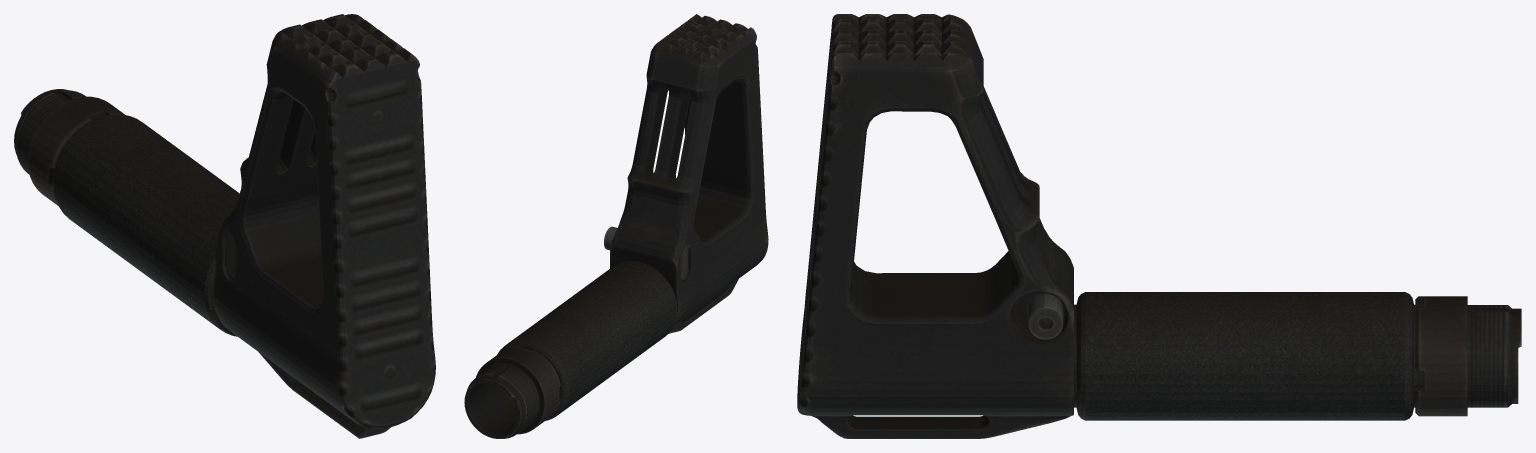
3 renders of one model, left to right at view 1: azimuth 30°, elevation 25°; view 2: azimuth 150°, elevation 25°; view 3: azimuth 270°, elevation 25°, orthographic. The views are drawn at different scales.
Parts seen in each view (by area): view 1: TW_5d120a10d7ad1a4e1026ba85_PZ_Import; view 2: TW_5d120a10d7ad1a4e1026ba85_PZ_Import; view 3: TW_5d120a10d7ad1a4e1026ba85_PZ_Import.
Boxes of the visible parts, box(x1,y1,x2,y2) form: TW_5d120a10d7ad1a4e1026ba85_PZ_Import: box(14, 14, 435, 438); TW_5d120a10d7ad1a4e1026ba85_PZ_Import: box(464, 14, 768, 438); TW_5d120a10d7ad1a4e1026ba85_PZ_Import: box(797, 14, 1521, 438).
Size of the model in its own units: 0.0229 by 0.1204 by 0.074.
1 material, 1 textured.
